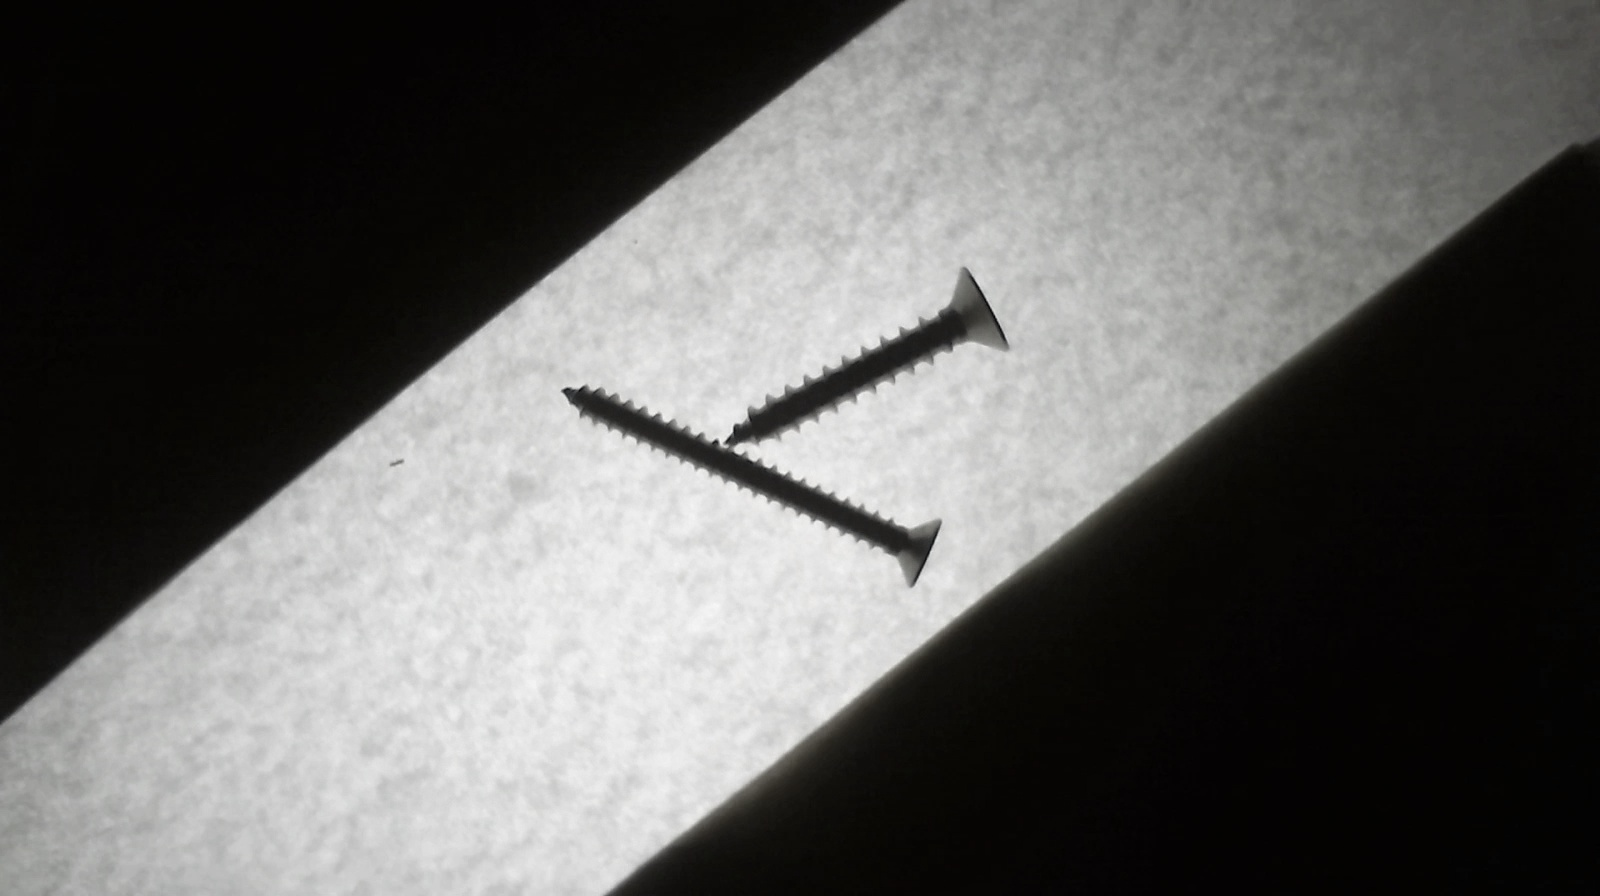S001: (718, 264, 1014, 449)
S002: (555, 381, 943, 597)
